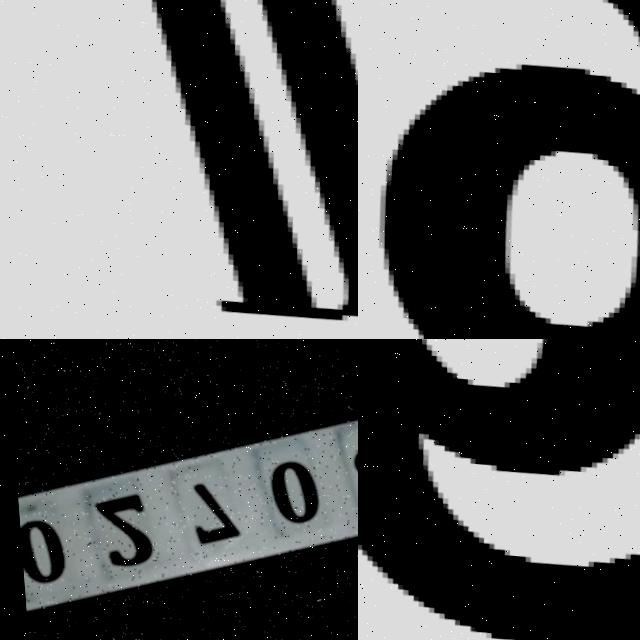0: (237, 441, 333, 553), (13, 497, 80, 613)
2: (66, 477, 167, 595)
6: (358, 339, 640, 640)
7: (155, 462, 248, 571)
8: (326, 428, 358, 529)
9: (358, 0, 640, 339)
D: (2, 0, 358, 339)
